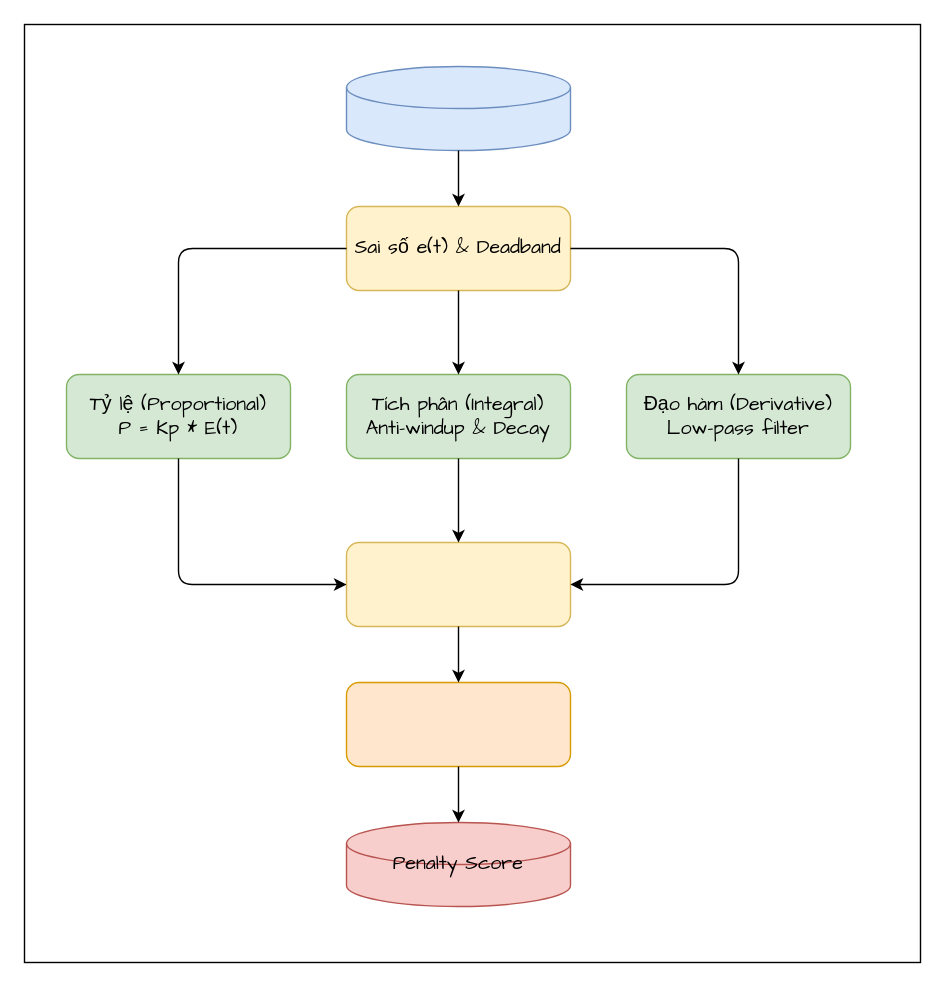
Image size: 945x987. Some labels were removed from this diagram. Each missing label, with the centre of its shape:
"Hàm Tanh phi tuyến Penalty = λ * tanh(κ * max(0, U))" goes at point 457,723.
"rawLat(t) & setpoint" goes at point 457,107.
"Tổng U(t) = P + I + D" goes at point 457,583.
